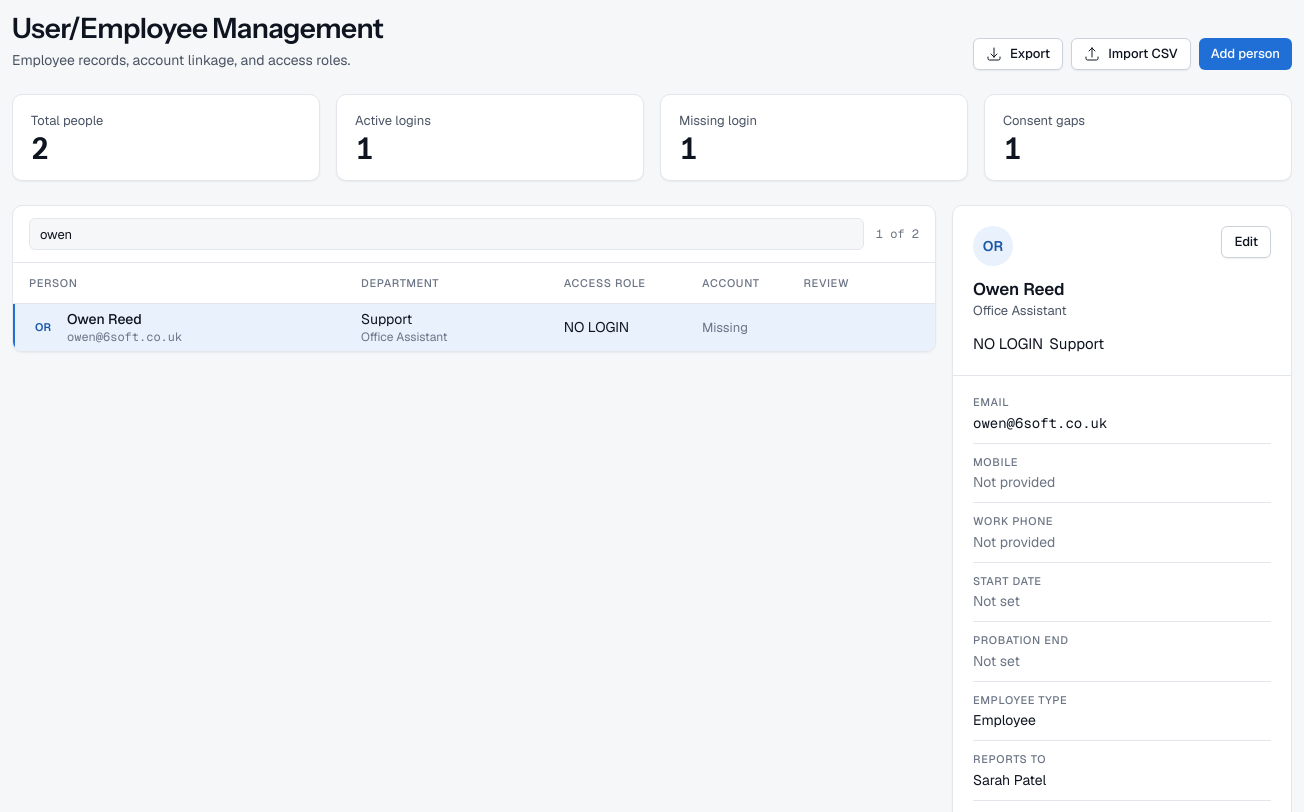
Test case: Unified user and employee management › filters the list from the ?q= search term and from the search box
Expected: the text "1 of 2" is shown, top-left (876, 226), bottom-right (919, 242)
Replace the text in the search field named "Search people" with "operations": (446, 234) top-left (29, 218), bottom-right (864, 250)
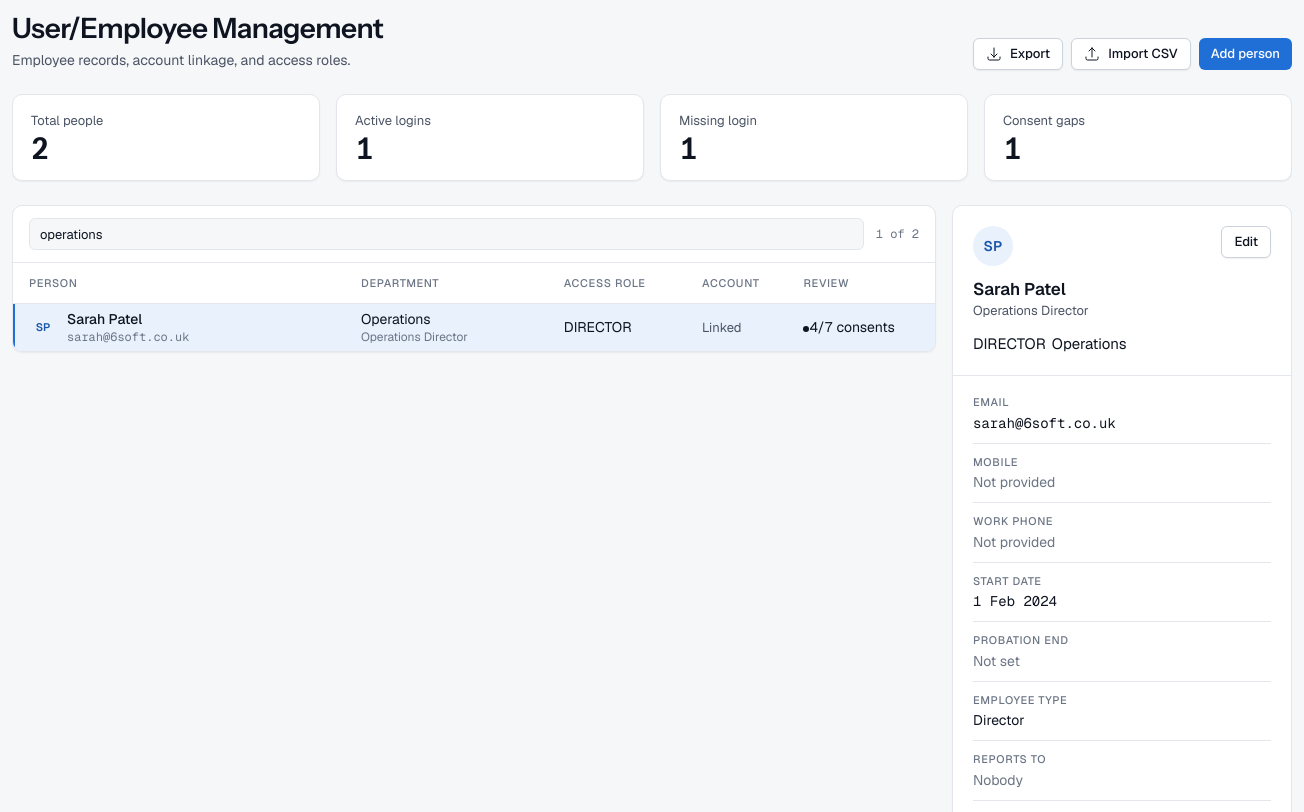
Now the row "Sarah Patel" is shown, box top-left (13, 303), bottom-right (935, 351)
Replace the text in the search field named "Search people" with "nobody here": (446, 234) top-left (29, 218), bottom-right (864, 250)
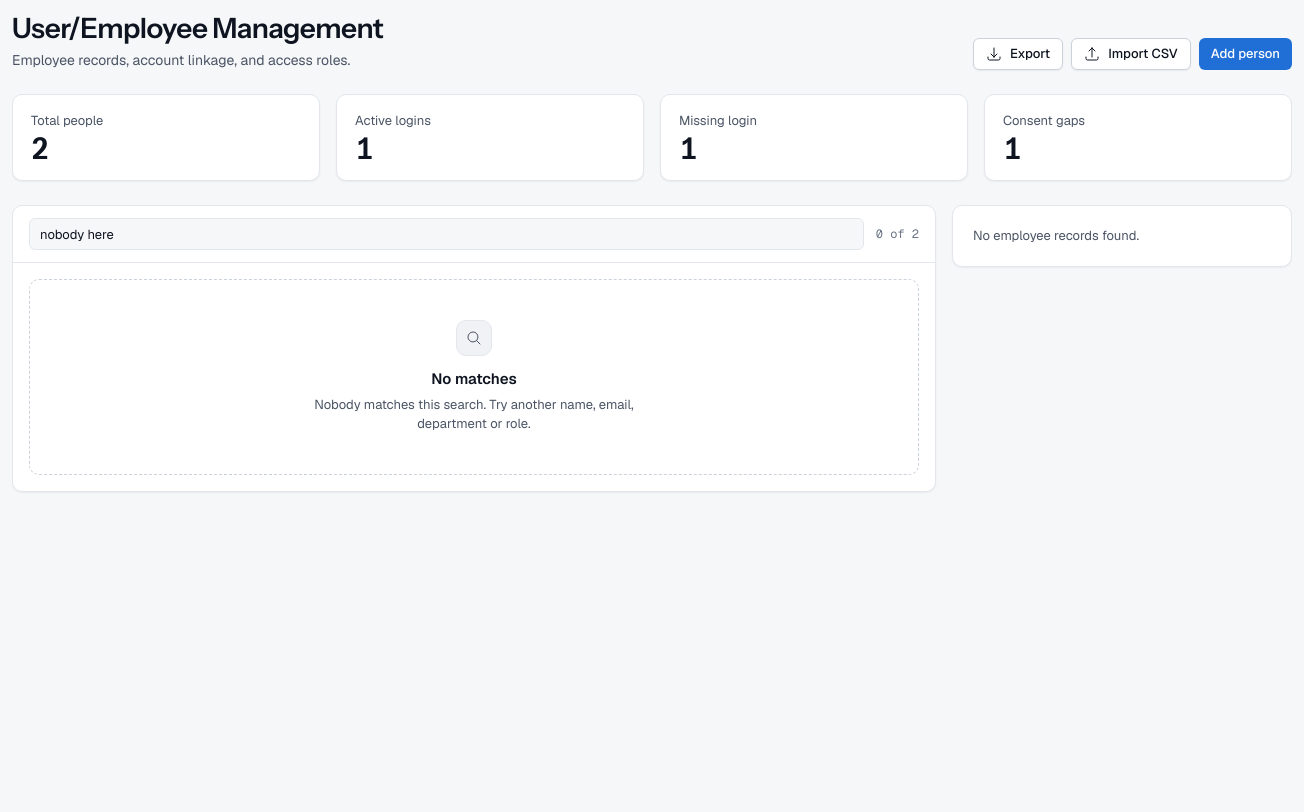
Now the text "No matches" is shown, box top-left (431, 368), bottom-right (517, 391)
